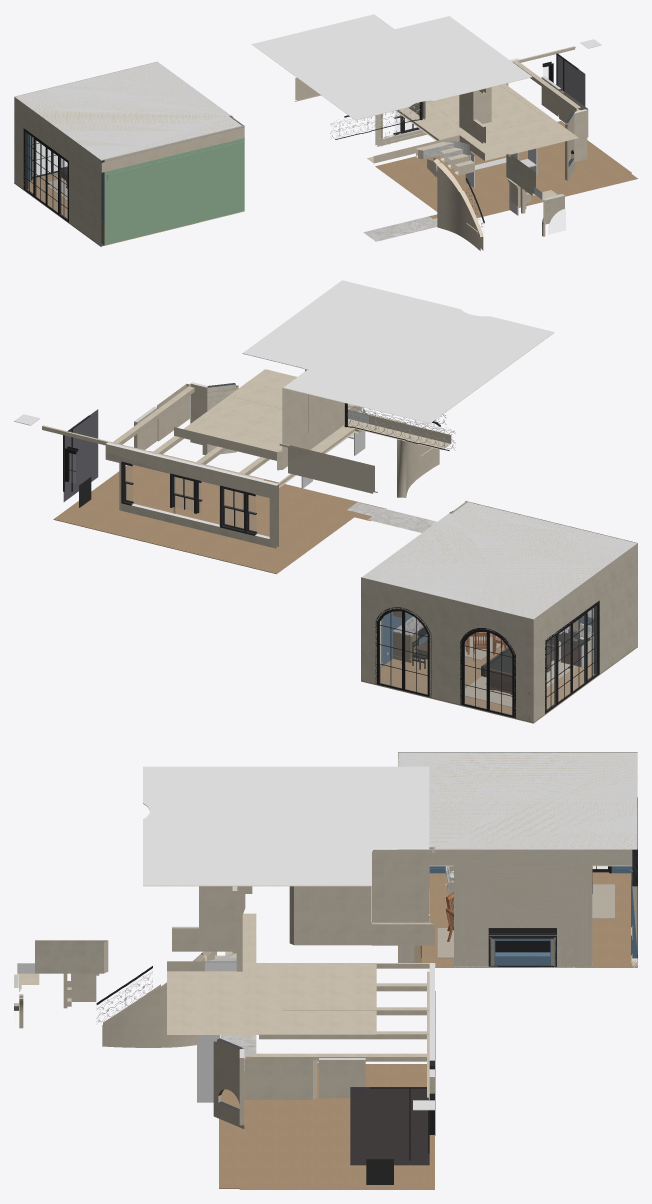
File: game-room-71356772a158.glb
The picture shows the model from 3 angles, top to bottom: view 1: azimuth 30°, elevation 25°; view 2: azimuth 150°, elevation 25°; view 3: azimuth 270°, elevation 25°; orthographic projection. The views are drawn at different scales.
Visible parts, largest first — view 1: game-room-look-9d91b47435c6fb33, game-room-4a969f5cc1ae3dfe, game-room-30c5953c9ad73e5d, game-room-look-3b0077416469e01b, game-room-look-2575515a05775d9e, game-room-039192b0560cfac3, game-room-50d54560d247b537, game-room-9fbf623a647a21dd, game-room-look-8c6a7019fd0063e7, game-room-2575515a05775d9e, game-room-3b0077416469e01b, game-room-look-cbd4bf73d9724a66 (+16 smaller); view 2: game-room-look-9d91b47435c6fb33, game-room-4a969f5cc1ae3dfe, game-room-look-3b0077416469e01b, game-room-969b861f9850351e, game-room-039192b0560cfac3, game-room-look-2575515a05775d9e, game-room-50d54560d247b537, game-room-look-bfb9fa537cd11d1d, game-room-67b6630d0fa028c8, game-room-b7bc8997c06ae95e, game-room-9fbf623a647a21dd, game-room-3b0077416469e01b (+16 smaller); view 3: game-room-look-9d91b47435c6fb33, game-room-4a969f5cc1ae3dfe, game-room-look-3b0077416469e01b, game-room-3e6709f91b43c3bf, game-room-look-2575515a05775d9e, game-room-50d54560d247b537, game-room-look-cbd4bf73d9724a66, game-room-55ff1dfd7b659ec1, game-room-look-69af8f587252f9fa, game-room-3b0077416469e01b, game-room-look-32b959c9aa406288, game-room-look-8c6a7019fd0063e7 (+20 smaller).
Boxes of the visible parts, <box> form: game-room-look-9d91b47435c6fb33: <box>251,14,531,120</box>; game-room-4a969f5cc1ae3dfe: <box>14,62,242,160</box>; game-room-30c5953c9ad73e5d: <box>104,126,244,245</box>; game-room-look-3b0077416469e01b: <box>375,121,637,218</box>; game-room-look-2575515a05775d9e: <box>367,84,578,163</box>; game-room-039192b0560cfac3: <box>14,97,104,246</box>; game-room-50d54560d247b537: <box>14,61,243,160</box>; game-room-9fbf623a647a21dd: <box>23,128,68,222</box>; game-room-look-8c6a7019fd0063e7: <box>427,157,483,250</box>; game-room-2575515a05775d9e: <box>101,128,244,172</box>; game-room-3b0077416469e01b: <box>14,172,239,246</box>; game-room-look-cbd4bf73d9724a66: <box>557,55,585,106</box>; game-room-look-9d91b47435c6fb33: <box>242,280,554,423</box>; game-room-4a969f5cc1ae3dfe: <box>361,502,637,619</box>; game-room-look-3b0077416469e01b: <box>53,451,386,574</box>; game-room-969b861f9850351e: <box>361,578,529,721</box>; game-room-039192b0560cfac3: <box>529,544,637,722</box>; game-room-look-2575515a05775d9e: <box>174,369,451,460</box>; game-room-50d54560d247b537: <box>361,502,637,619</box>; game-room-look-bfb9fa537cd11d1d: <box>105,442,278,548</box>; game-room-67b6630d0fa028c8: <box>460,628,515,718</box>; game-room-b7bc8997c06ae95e: <box>375,607,431,697</box>; game-room-9fbf623a647a21dd: <box>545,600,599,713</box>; game-room-3b0077416469e01b: <box>361,644,637,722</box>; game-room-look-9d91b47435c6fb33: <box>143,766,429,886</box>; game-room-4a969f5cc1ae3dfe: <box>398,752,637,849</box>; game-room-look-3b0077416469e01b: <box>219,1056,434,1189</box>; game-room-3e6709f91b43c3bf: <box>398,849,632,966</box>; game-room-look-2575515a05775d9e: <box>167,913,376,1034</box>; game-room-50d54560d247b537: <box>398,752,637,849</box>; game-room-look-cbd4bf73d9724a66: <box>350,1087,429,1165</box>; game-room-55ff1dfd7b659ec1: <box>398,849,631,967</box>; game-room-look-69af8f587252f9fa: <box>289,886,371,945</box>; game-room-3b0077416469e01b: <box>398,872,637,967</box>; game-room-look-32b959c9aa406288: <box>372,849,429,922</box>; game-room-look-8c6a7019fd0063e7: <box>102,951,216,1047</box>.
Size of the model in its own units: 21.68 by 6.36 by 16.78.
Materials: 61 (16 with a texture image).
